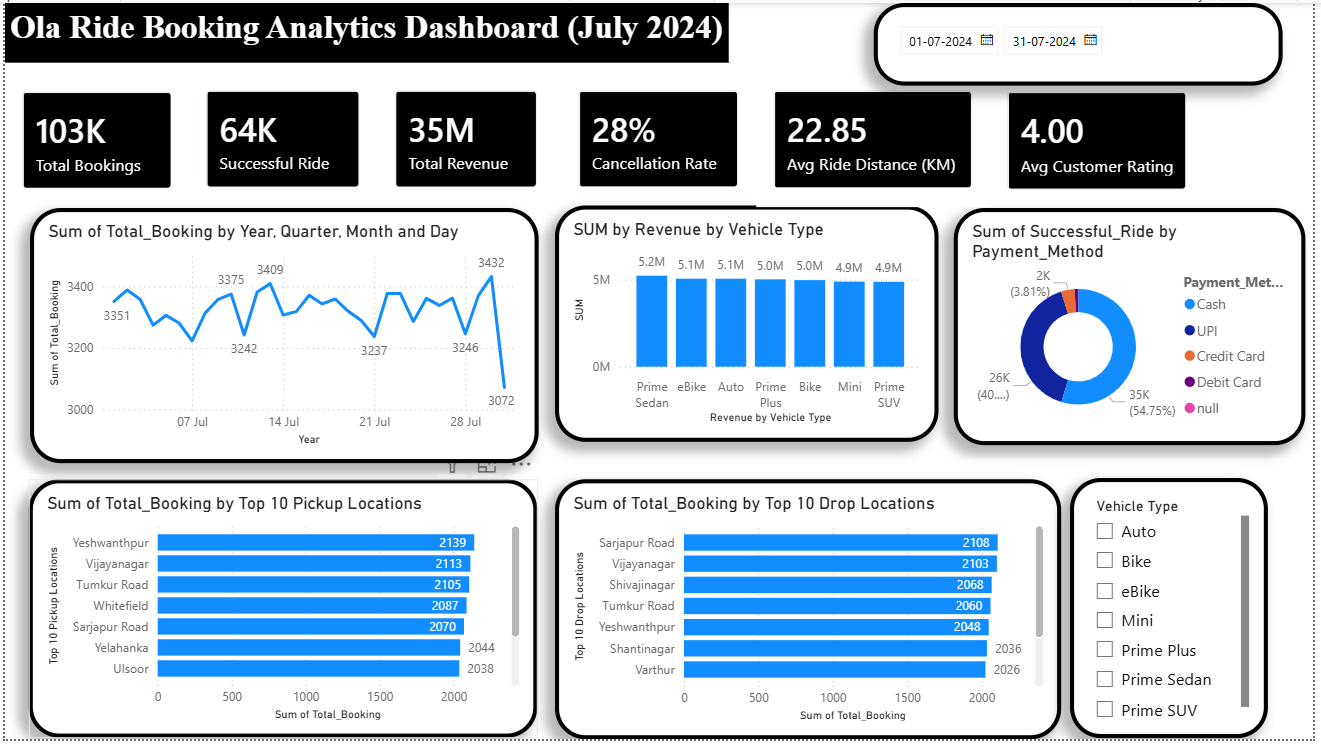

Layout of this report page (visuals, bound fields, positions):
{"tool":"powerbi","page":{"name":"Page 1","canvas":[1280,720],"ordinal":0},"visuals":[{"type":"cardVisual","fields":{"Data":["Sum(July1.Total_Booking)"]},"box":[0,69.7,181,129.6],"z":0},{"type":"cardVisual","fields":{"Data":["Sum(July1.Booking_Value)"]},"box":[364.4,68.5,173.6,129.6],"z":1000},{"type":"cardVisual","fields":{"Data":["Sum(July1.Successful_Ride)"]},"box":[179.8,68.5,184.6,129.6],"z":2000},{"type":"cardVisual","fields":{"Data":["July1.Sum of Canceled_Ride divided by Sum of Total_Booking"]},"box":[544.2,68.5,190.8,129.6],"z":3000},{"type":"cardVisual","fields":{"Data":["Avg(July1.Customer_Rating)"]},"box":[964,69.1,210,130.6],"z":4000},{"type":"clusteredColumnChart","fields":{"Category":["July1.Vehicle_Type"],"Y":["Sum(July1.Booking_Value)"]},"box":[538,198.1,375.4,231.1],"z":5000},{"type":"donutChart","fields":{"Category":["July1.Payment_Method"],"Y":["Sum(July1.Successful_Ride)"]},"box":[928.1,200.5,343.6,232.3],"z":6000},{"type":"clusteredBarChart","fields":{"Category":["July1.Pickup_Location"],"Y":["Sum(July1.Total_Booking)"]},"box":[23.2,465.9,497.7,253.1],"z":7000},{"type":"clusteredBarChart","fields":{"Category":["July1.Drop_Location"],"Y":["Sum(July1.Total_Booking)"]},"box":[538,465.9,495.2,254.3],"z":8000},{"type":"cardVisual","fields":{"Data":["Avg(July1.Ride_Distance)"]},"box":[734.9,68.5,228.7,130.8],"z":9000},{"type":"lineChart","fields":{"Y":["Sum(July1.Total_Booking)"],"Category":["July1.Date.Variation.Date Hierarchy.Year","July1.Date.Variation.Date Hierarchy.Quarter","July1.Date.Variation.Date Hierarchy.Month","July1.Date.Variation.Date Hierarchy.Day"]},"box":[24.5,200.5,497.7,249.5],"z":10000},{"type":"textbox","box":[0,0,708,58.7],"z":11000},{"type":"slicer","fields":{"Values":["July1.Date"]},"box":[849.9,0,400,81],"z":12000},{"type":"slicer","fields":{"Values":["July1.Vehicle_Type"]},"box":[1041.9,464.7,193.2,254.3],"z":13000}]}

Visuals, with their boxes in screenshot pixels (x1, y1, x2, y2), scaled from the page's 1280x720 canvas onto the 1321x747 screenshot:
cardVisual - Sum(July1.Total_Booking): 0/72/187/207
cardVisual - Sum(July1.Booking_Value): 376/71/555/206
cardVisual - Sum(July1.Successful_Ride): 186/71/376/206
cardVisual - July1.Sum of Canceled_Ride divided by Sum of Total_Booking: 562/71/759/206
cardVisual - Avg(July1.Customer_Rating): 995/72/1212/207
clusteredColumnChart - July1.Vehicle_Type x Sum(July1.Booking_Value): 555/206/943/445
donutChart - July1.Payment_Method x Sum(July1.Successful_Ride): 958/208/1312/449
clusteredBarChart - July1.Pickup_Location x Sum(July1.Total_Booking): 24/483/538/746
clusteredBarChart - July1.Drop_Location x Sum(July1.Total_Booking): 555/483/1066/746
cardVisual - Avg(July1.Ride_Distance): 758/71/994/207
lineChart - Sum(July1.Total_Booking) x July1.Date.Variation.Date Hierarchy.Year: 25/208/539/467
textbox: 0/0/731/61
slicer - July1.Date: 877/0/1290/84
slicer - July1.Vehicle_Type: 1075/482/1275/746
